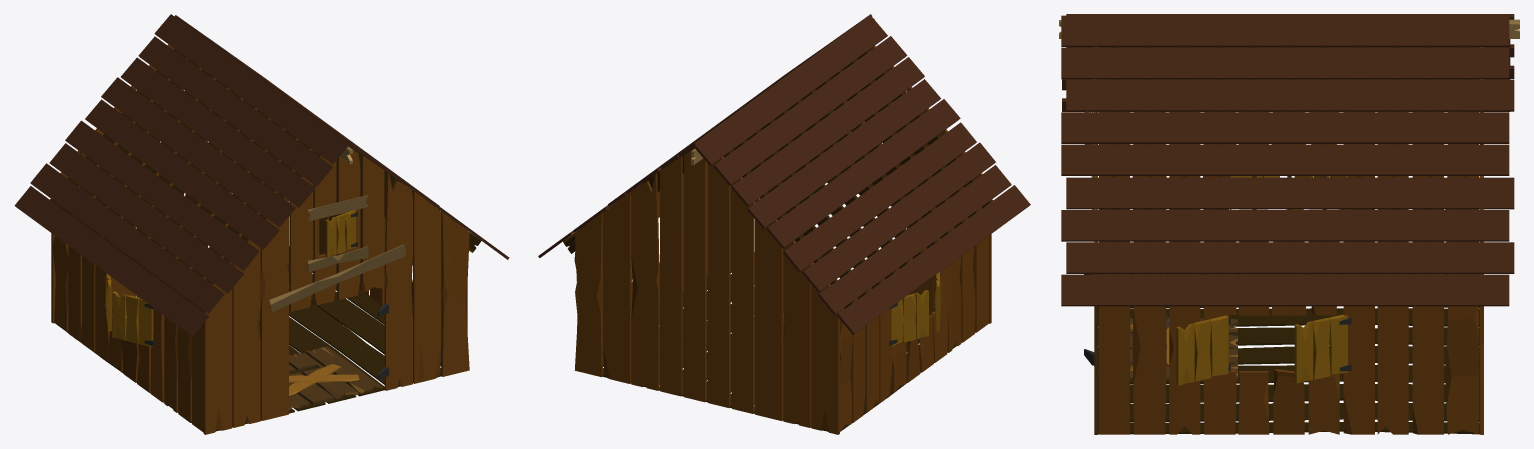
File: House_03.fbx
The picture shows the model from 3 angles, left to right: view 1: azimuth 30°, elevation 25°; view 2: azimuth 150°, elevation 25°; view 3: azimuth 270°, elevation 25°; orthographic projection. The views are drawn at different scales.
Parts seen in each view (by area): view 1: House_03_Merged; view 2: House_03_Merged; view 3: House_03_Merged.
Boxes of the visible parts, x1,y1,x2,y2 form: House_03_Merged: (14, 14, 509, 434); House_03_Merged: (538, 14, 1030, 434); House_03_Merged: (1059, 14, 1519, 434).
Size of the model in its own units: 542 by 436 by 537.
